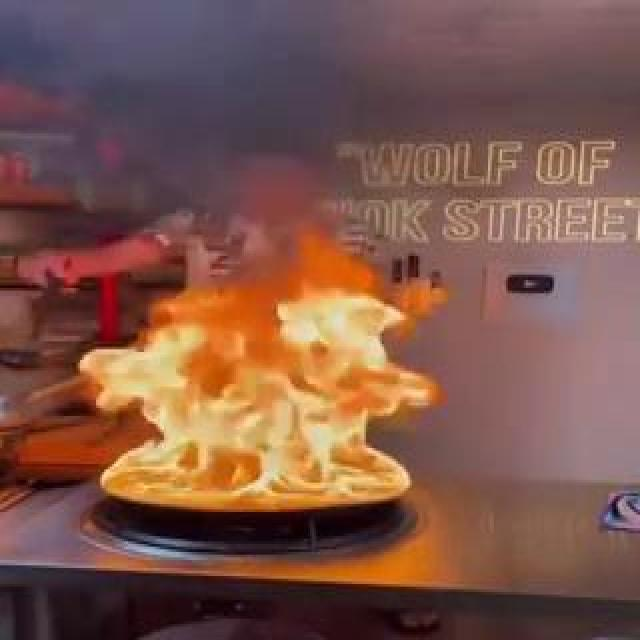Fire: (64, 164, 422, 519)
